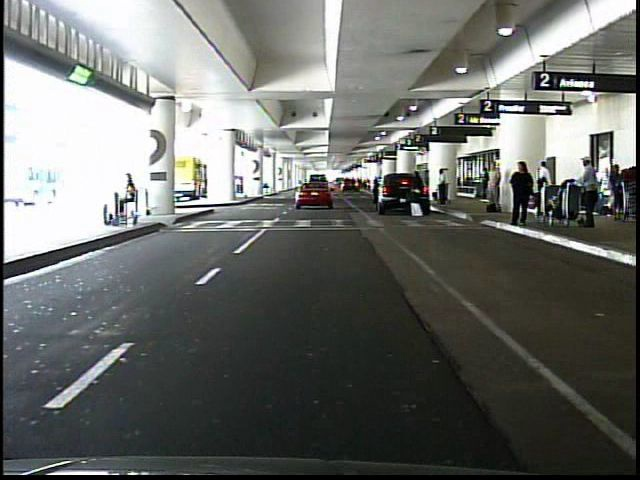person: (577, 155, 599, 237), (509, 158, 532, 227), (114, 170, 137, 223), (608, 165, 623, 222), (593, 166, 608, 215), (536, 160, 550, 207), (412, 172, 425, 218), (436, 167, 449, 206)
